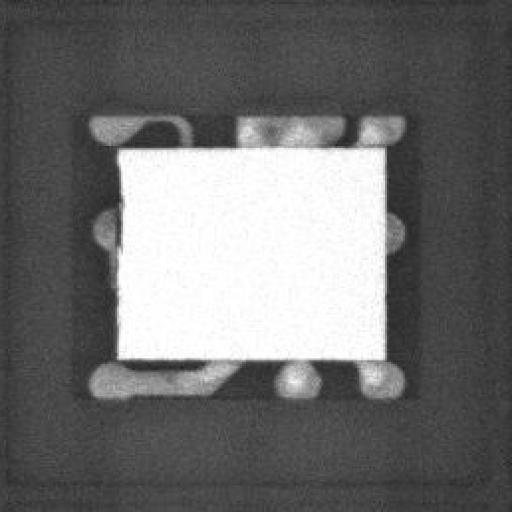DIE_BROKEN: (111, 161, 123, 250)
